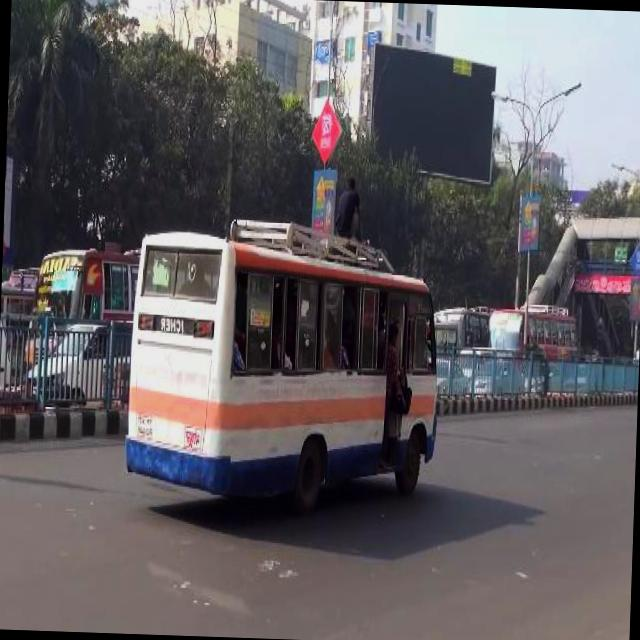bus: (120, 217, 445, 523), (22, 244, 138, 367), (491, 303, 584, 366), (0, 255, 39, 372), (434, 301, 489, 353)
car: (469, 361, 526, 402), (438, 356, 468, 399), (528, 359, 558, 398)
truck: (23, 312, 133, 409)
